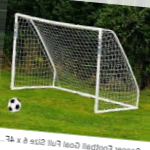goals: (10, 10, 142, 112)
